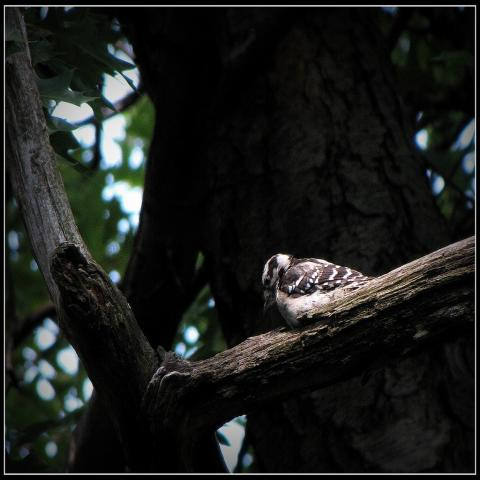bird: (258, 250, 376, 329)
